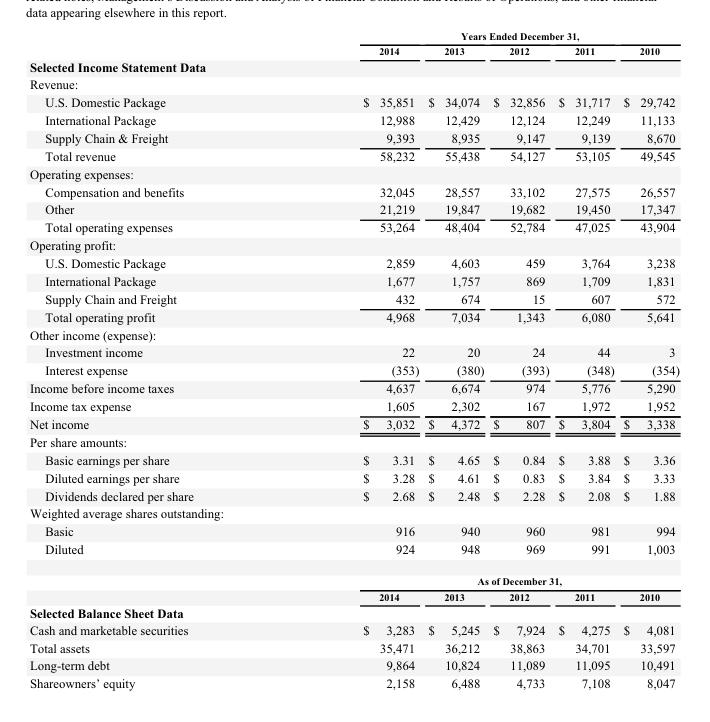table: (28, 28, 678, 691)
table column: (28, 28, 277, 691), (277, 28, 422, 691), (422, 28, 488, 691), (488, 28, 553, 691), (553, 28, 618, 691), (618, 28, 678, 691)
table column header: (28, 28, 678, 57)
table projected row header: (28, 57, 678, 75), (28, 164, 678, 182), (28, 235, 678, 253), (28, 325, 678, 343), (28, 432, 678, 450), (28, 75, 678, 92), (28, 504, 678, 521), (28, 603, 678, 620)
table row: (28, 539, 678, 565), (28, 565, 678, 588), (28, 57, 678, 75), (28, 92, 678, 110), (28, 110, 678, 128), (28, 128, 678, 146), (28, 146, 678, 164), (28, 164, 678, 182), (28, 182, 678, 200), (28, 217, 678, 235), (28, 235, 678, 253), (28, 253, 678, 271), (28, 271, 678, 289), (28, 289, 678, 307), (28, 307, 678, 325), (28, 325, 678, 343), (28, 360, 678, 378), (28, 378, 678, 396), (28, 396, 678, 414), (28, 414, 678, 432), (28, 432, 678, 450), (28, 450, 678, 468), (28, 468, 678, 486), (28, 486, 678, 504), (28, 521, 678, 539), (28, 620, 678, 638), (28, 655, 678, 673), (28, 673, 678, 691), (28, 75, 678, 92), (28, 200, 678, 217), (28, 343, 678, 360), (28, 504, 678, 521), (28, 603, 678, 620), (28, 638, 678, 655), (28, 28, 678, 43), (28, 588, 678, 603), (28, 43, 678, 57)
table spanning cell: (277, 565, 678, 588), (277, 28, 678, 43)
